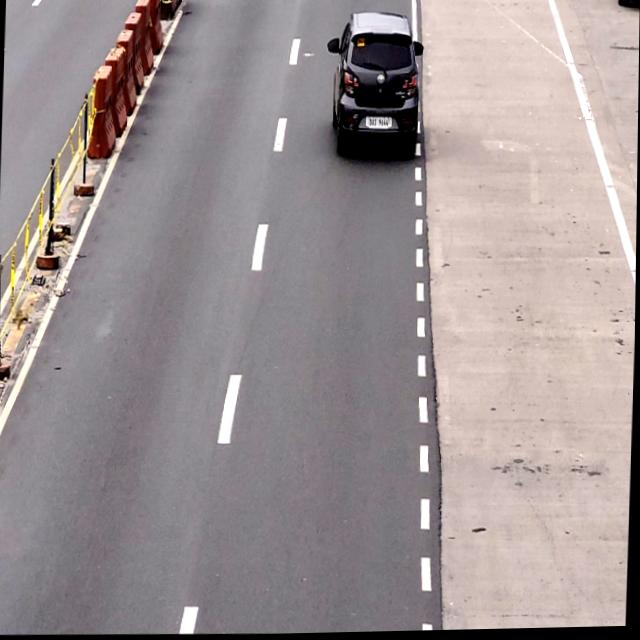Car: (336, 15, 418, 151)
License-Plate: (365, 116, 392, 134)
